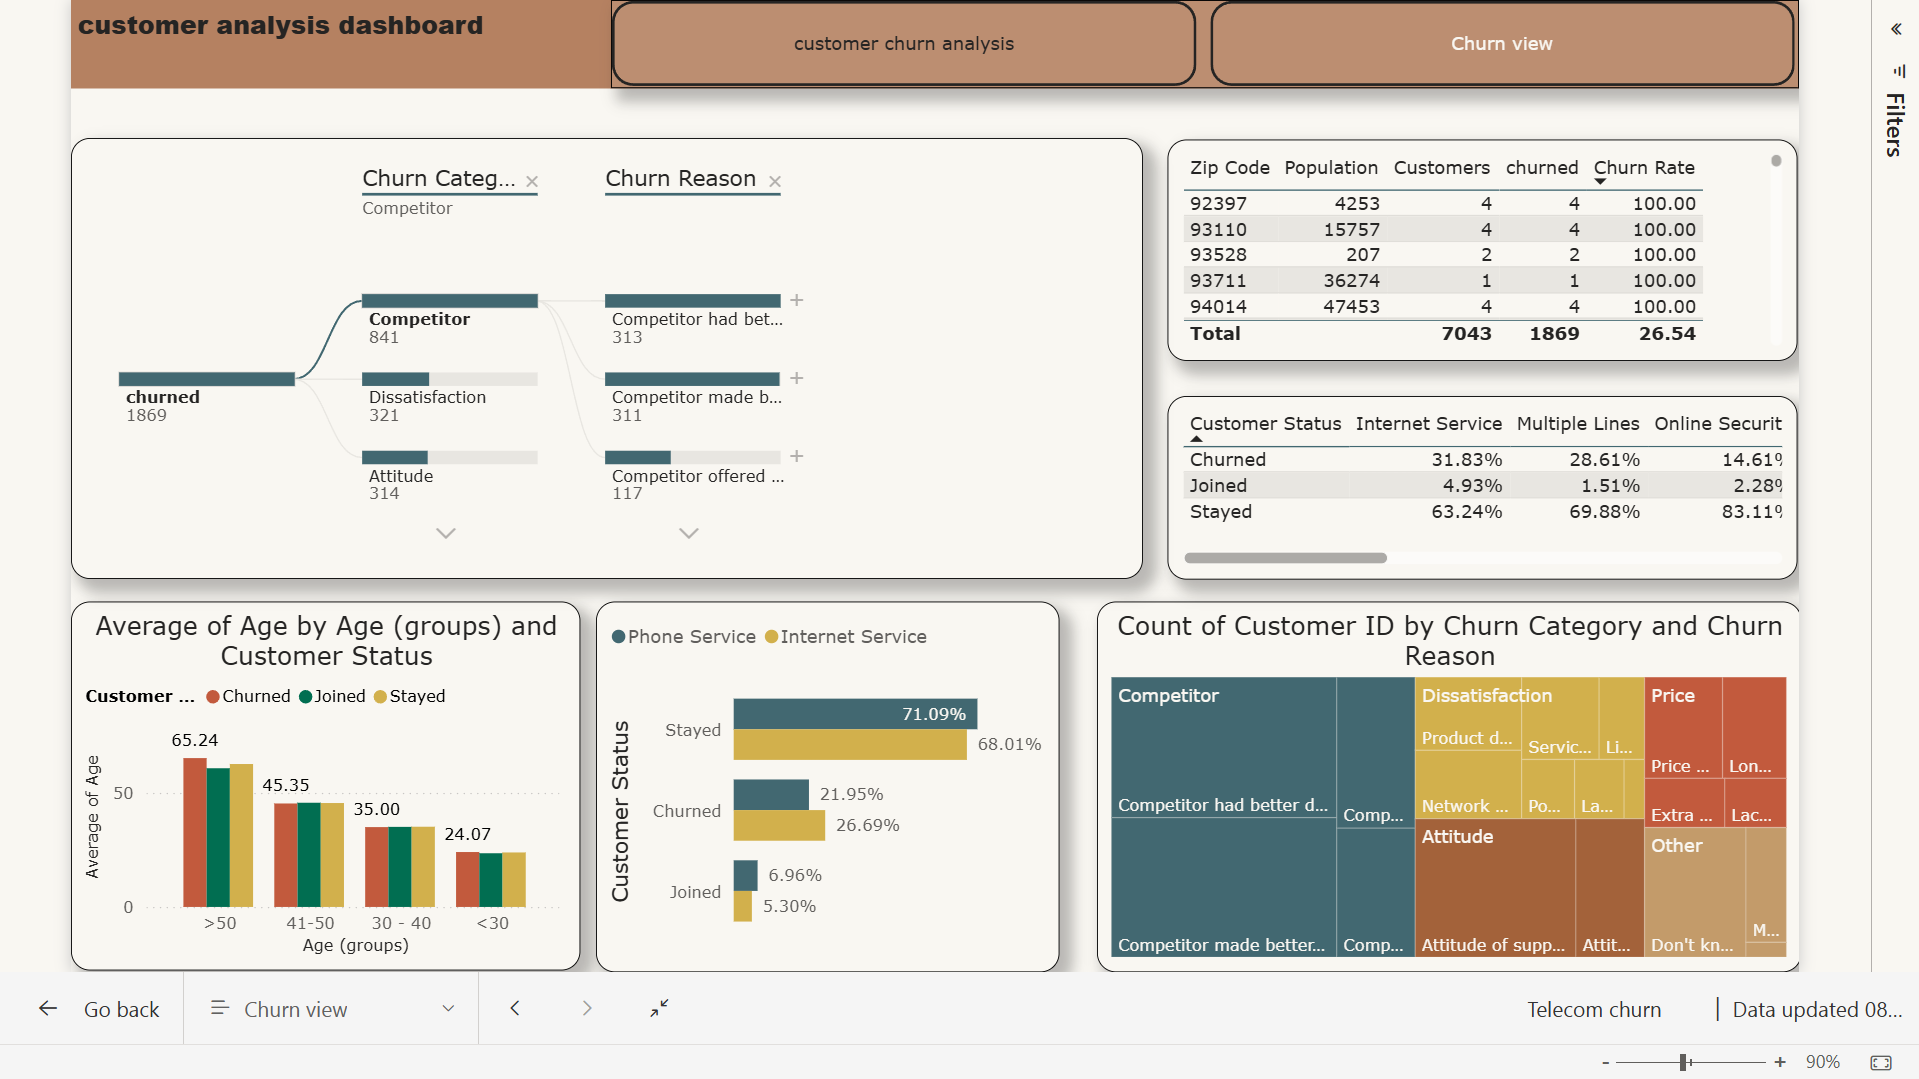

What the dashboard file says about the page in this screenshot:
{"tool":"powerbi","page":{"name":"Churn view","canvas":[1280,720],"ordinal":1},"visuals":[{"type":"treemap","fields":{"Group":["customer churn.Churn Category"],"Details":["customer churn.Churn Reason"],"Values":["CountNonNull(customer churn.Customer ID)"]},"box":[759.6,445.7,522.1,274.9],"z":0},{"type":"tableEx","fields":{"Values":["customer churn.Customer Status","Divide(customer churn.Count of Internet Service for Yes, ScopedEval(customer churn.Count of Internet Service for Yes, []","Divide(customer churn.Count of Multiple Lines for Yes, ScopedEval(customer churn.Count of Multiple Lines for Yes, []))","Divide(customer churn.Count of Online Security for Yes, ScopedEval(customer churn.Count of Online Security for Yes, []))","Divide(customer churn.Count of Online Backup for Yes, ScopedEval(customer churn.Count of Online Backup for Yes, []))","Divide(customer churn.Count of Phone Service for Yes, ScopedEval(customer churn.Count of Phone Service for Yes, []))","Divide(customer churn.Count of Premium Tech Support for Yes, ScopedEval(customer churn.Count of Premium Tech Support for","Divide(customer churn.Count of Streaming Movies for Yes, ScopedEval(customer churn.Count of Streaming Movies for Yes, []","Divide(customer churn.Count of Streaming Music for Yes, ScopedEval(customer churn.Count of Streaming Music for Yes, []))","Divide(customer churn.Count of Unlimited Data for Yes, ScopedEval(customer churn.Count of Unlimited Data for Yes, []))","Divide(customer churn.Count of Streaming TV for Yes, ScopedEval(customer churn.Count of Streaming TV for Yes, []))"]},"box":[812.6,293.2,466.9,136],"z":1000},{"type":"clusteredColumnChart","fields":{"Category":["customer churn.Age (groups)"],"Series":["customer churn.Customer Status"],"Y":["Avg(customer churn.Age)"]},"box":[0,445.7,377.4,273.3],"z":2000},{"type":"textbox","box":[0,-1.6,1280.1,66.7],"z":3000},{"type":"pageNavigator","box":[400.1,0,880,65.1],"z":4000},{"type":"tableEx","fields":{"Values":["customer churn.Zip Code","telecom_zipcode_population.Population","CountNonNull(customer churn.Zip Code)","customer churn.Count of Customer Status for Churned","select1"]},"box":[812.6,103.2,466.9,163.8],"z":5000},{"type":"decompositionTreeVisual","fields":{"Analyze":["customer churn.churned"],"ExplainBy":["customer churn.Churn Category","customer churn.Churn Reason","customer churn.Total Revenue","customer churn.Total Refunds"]},"box":[0,102.5,793.8,326.9],"z":6000},{"type":"clusteredBarChart","fields":{"Category":["customer churn.Customer Status"],"Y":["Divide(customer churn.Count of Phone Service for Yes, ScopedEval(customer churn.Count of Phone Service for Yes, []))","Divide(customer churn.Count of Internet Service for Yes, ScopedEval(customer churn.Count of Internet Service for Yes, []"]},"box":[388.7,445.1,343.2,274.9],"z":7000}]}

Visuals, with their boxes on the page's 1280x720 design canvas (x1, y1, x2, y2). These are canvas units, not pixel positions in the 1919x1079 screenshot, which may show the page scaled, cropped or inside an application window:
treemap - customer churn.Churn Category x customer churn.Churn Reason: [x1=760, y1=446, x2=1282, y2=721]
tableEx - customer churn.Customer Status x Divide(customer churn.Count of Internet Service for Yes, ScopedEval(customer churn.Count of Internet Service for Yes, []: [x1=813, y1=293, x2=1280, y2=429]
clusteredColumnChart - customer churn.Age (groups) x customer churn.Customer Status: [x1=0, y1=446, x2=377, y2=719]
textbox: [x1=0, y1=-2, x2=1280, y2=65]
pageNavigator: [x1=400, y1=0, x2=1280, y2=65]
tableEx - customer churn.Zip Code x telecom_zipcode_population.Population: [x1=813, y1=103, x2=1280, y2=267]
decompositionTreeVisual - customer churn.churned x customer churn.Churn Category: [x1=0, y1=102, x2=794, y2=429]
clusteredBarChart - customer churn.Customer Status x Divide(customer churn.Count of Phone Service for Yes, ScopedEval(customer churn.Count of Phone Service for Yes, [])): [x1=389, y1=445, x2=732, y2=720]
